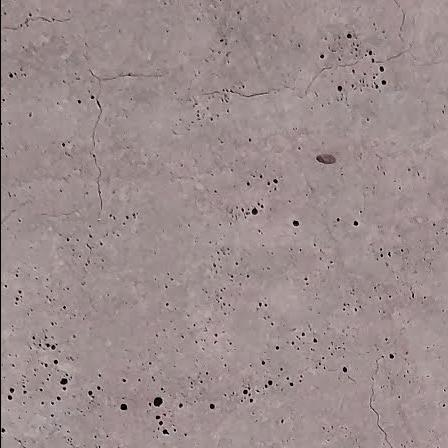crack: (187, 0, 448, 125), (13, 35, 167, 225), (0, 172, 143, 318), (362, 353, 394, 448), (0, 8, 76, 36)
